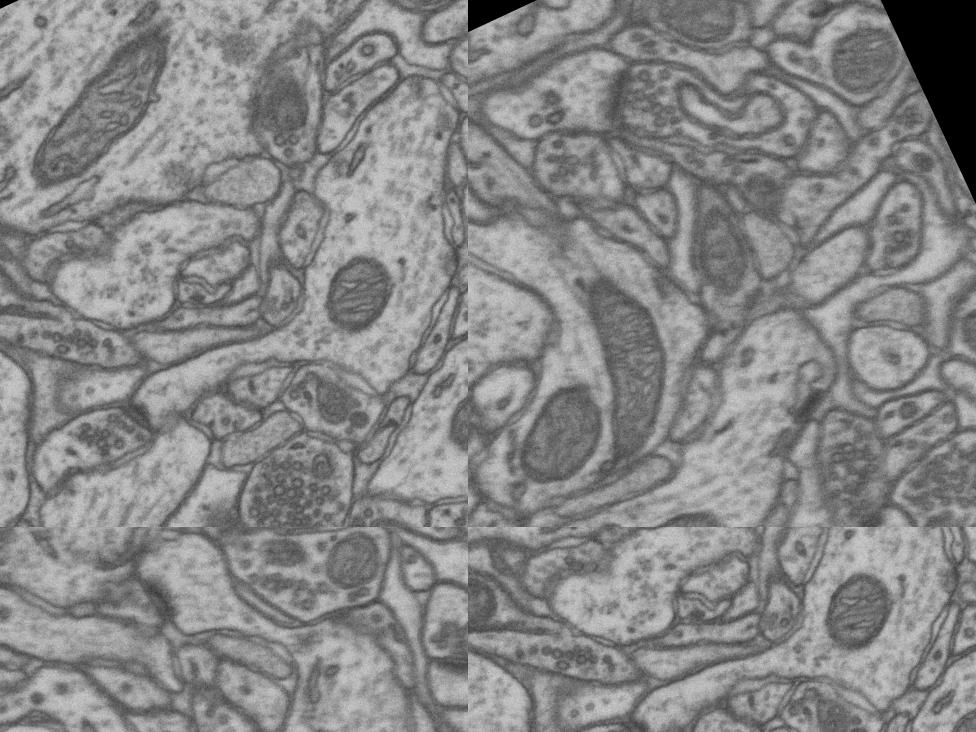mitochondria: (0, 3, 223, 206), (538, 256, 709, 468), (490, 368, 628, 502), (796, 554, 914, 674), (300, 236, 417, 356), (672, 192, 768, 304), (814, 9, 914, 106), (234, 61, 332, 157), (302, 527, 402, 608), (639, 0, 751, 68), (468, 559, 523, 660), (424, 369, 468, 470), (622, 493, 734, 527), (946, 285, 976, 387), (372, 0, 468, 30), (347, 500, 442, 527), (906, 503, 976, 527)
